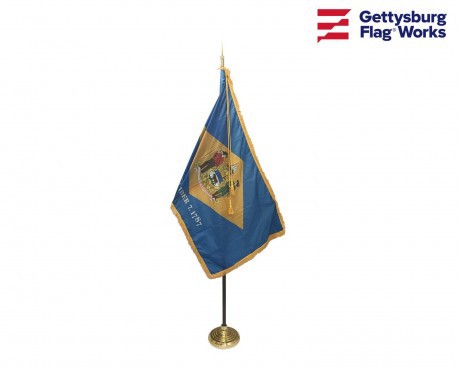Delaware flag: (176, 68, 286, 277)
